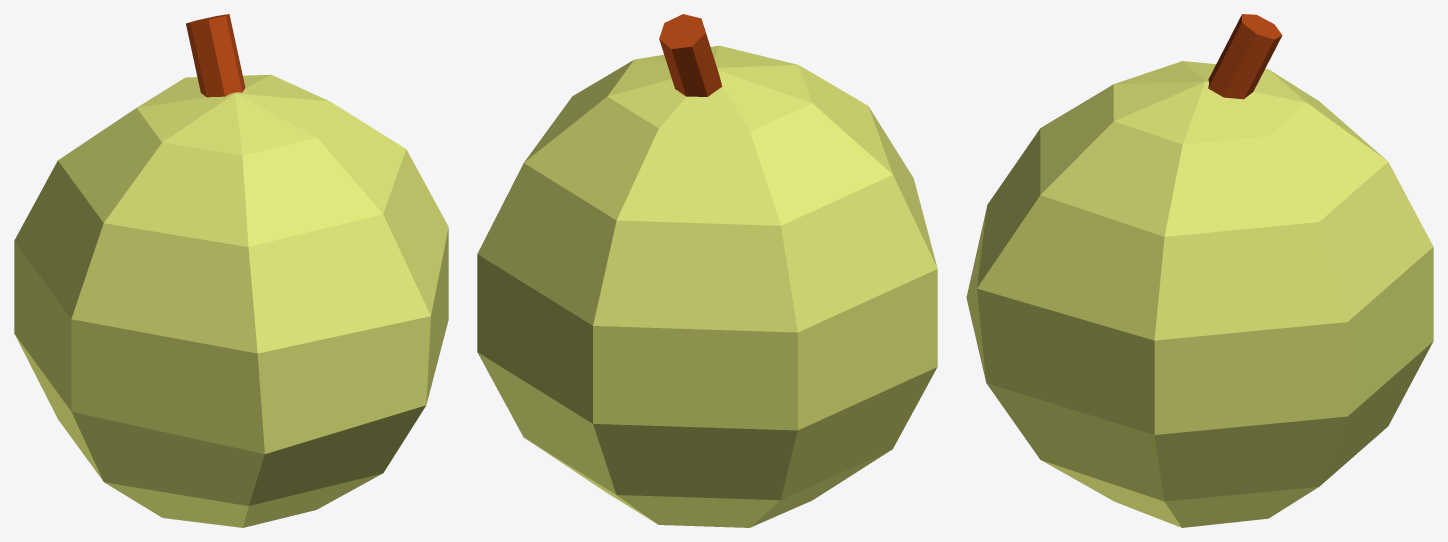
File: LowPolyApple.fbx
The picture shows the model from 3 angles, left to right: view 1: azimuth 30°, elevation 25°; view 2: azimuth 150°, elevation 25°; view 3: azimuth 270°, elevation 25°; orthographic projection. The views are drawn at different scales.
Visible parts, largest first — view 1: Apple Low Poly; view 2: Apple Low Poly; view 3: Apple Low Poly.
Part boxes in pixels (x1,y1,x2,y2): Apple Low Poly: (14, 14, 448, 527); Apple Low Poly: (477, 14, 937, 527); Apple Low Poly: (966, 14, 1433, 527).
Size of the model in its own units: 190 by 221 by 200.
